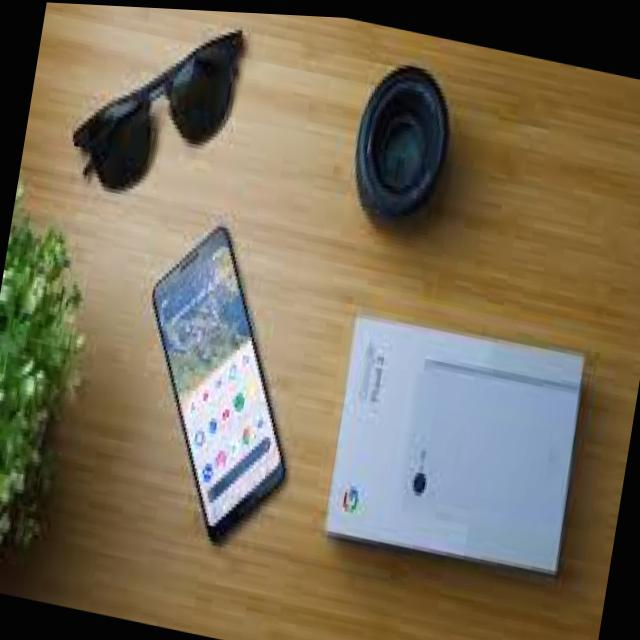Smartphone: (144, 208, 297, 556)
